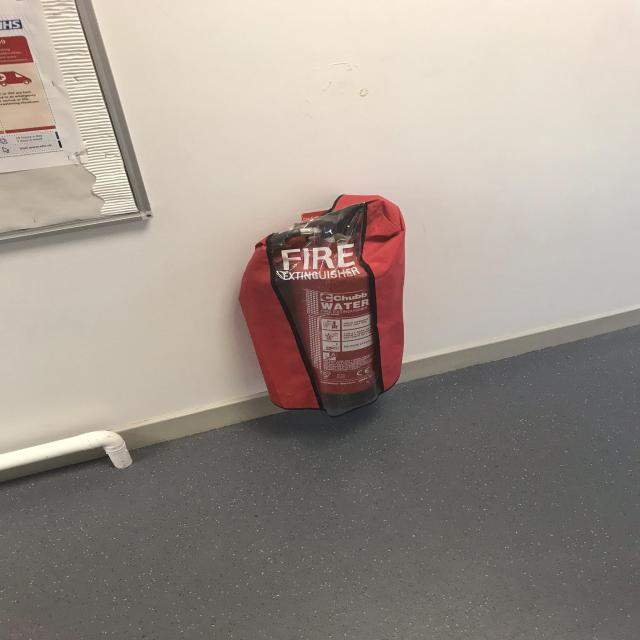fire_extinguisher: (254, 221, 385, 416)
